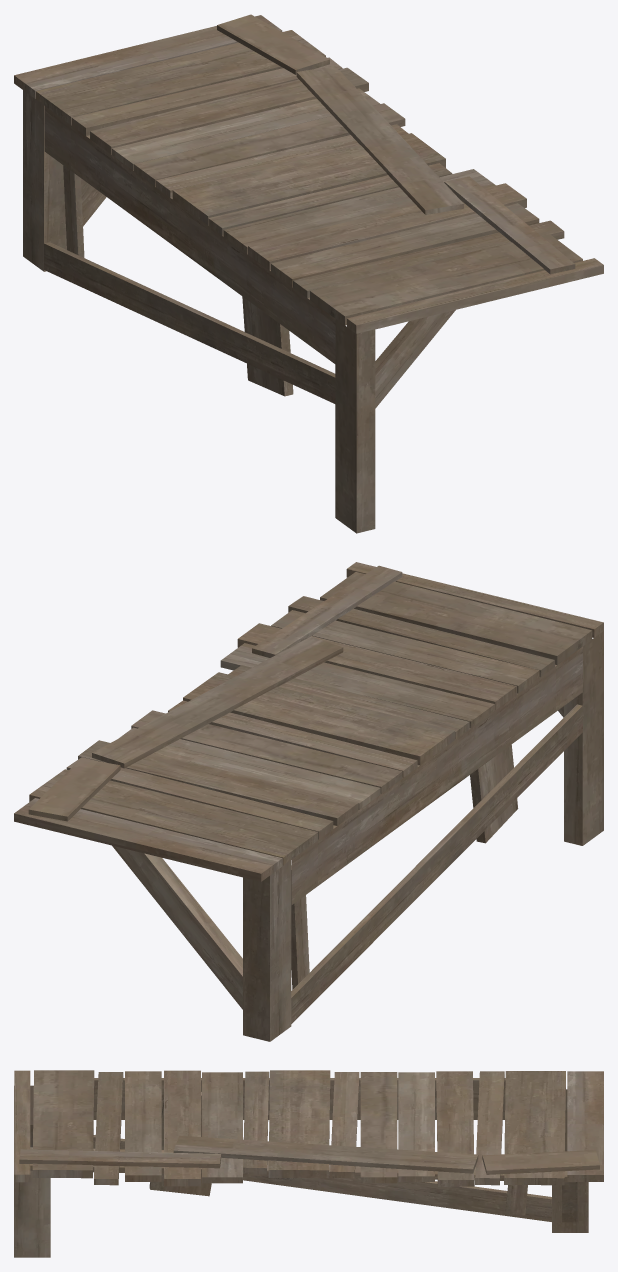
The picture shows the model from 3 angles, top to bottom: view 1: azimuth 30°, elevation 25°; view 2: azimuth 150°, elevation 25°; view 3: azimuth 270°, elevation 25°; orthographic projection. The views are drawn at different scales.
Parts seen in each view (by area): view 1: body0_model0_lod0_mesh0; view 2: body0_model0_lod0_mesh0; view 3: body0_model0_lod0_mesh0.
Boxes of the visible parts, x1=… form: body0_model0_lod0_mesh0: x1=14, y1=14, x2=603, y2=533; body0_model0_lod0_mesh0: x1=14, y1=562, x2=603, y2=1041; body0_model0_lod0_mesh0: x1=14, y1=1070, x2=603, y2=1257.
Bounding box in the file's own units: 123 × 96.98 × 283.
1 material, 1 textured.
